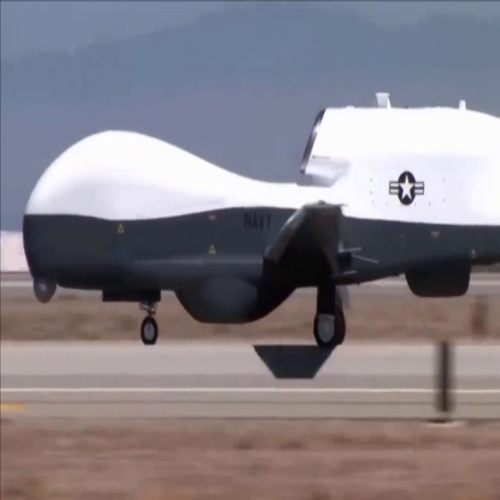uav: (17, 93, 499, 354)
